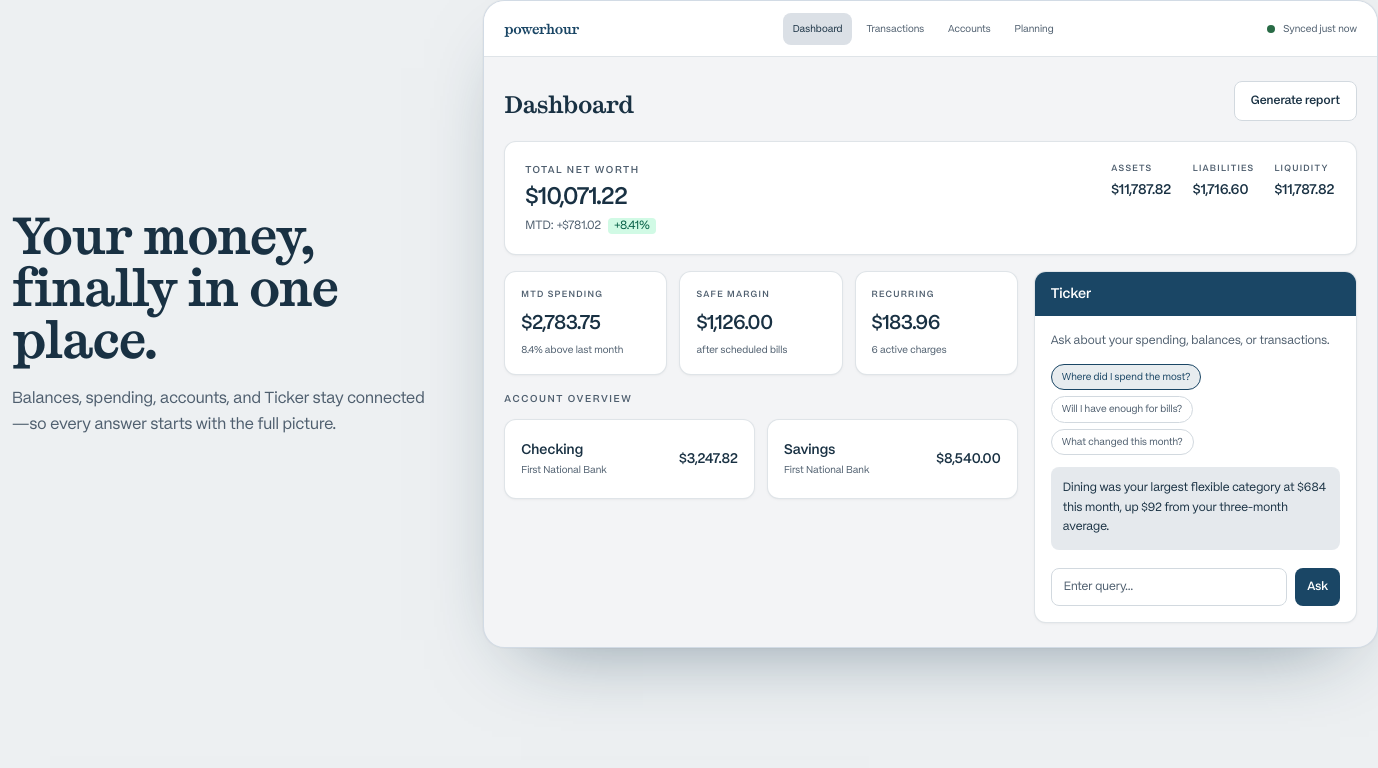
Test: ProductWorkspace › answers preset and custom Ticker questions
The image size is (1378, 768).
Click the button "Will I have enough for bills?": point(1122, 409) top-left (1051, 396), bottom-right (1193, 422)
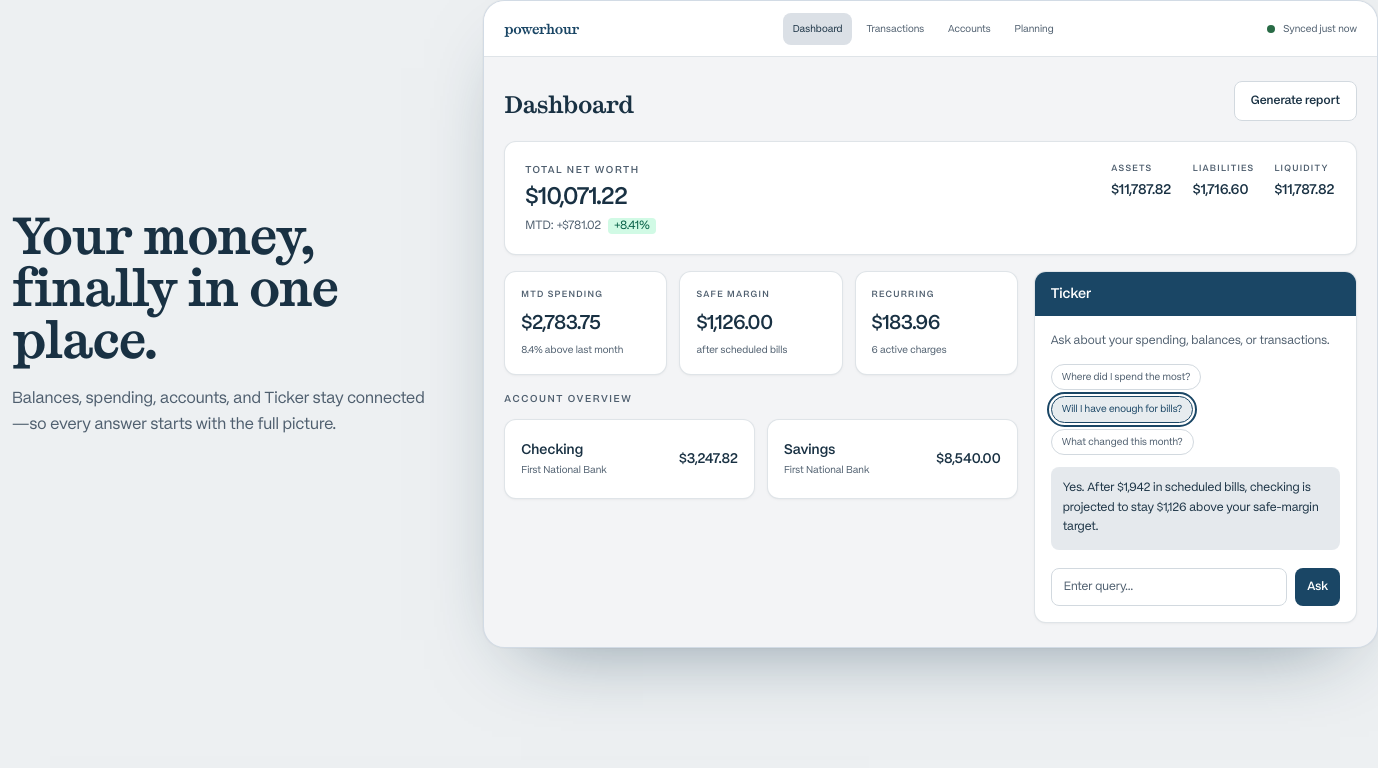
Check: the text "checking is projected to stay $1,126 above" is shown, box top-left (1063, 482), bottom-right (1319, 533)
In the field named "Ask Ticker a question": point(1169, 587) top-left (1051, 568), bottom-right (1287, 606), type "  Can I save more?  "
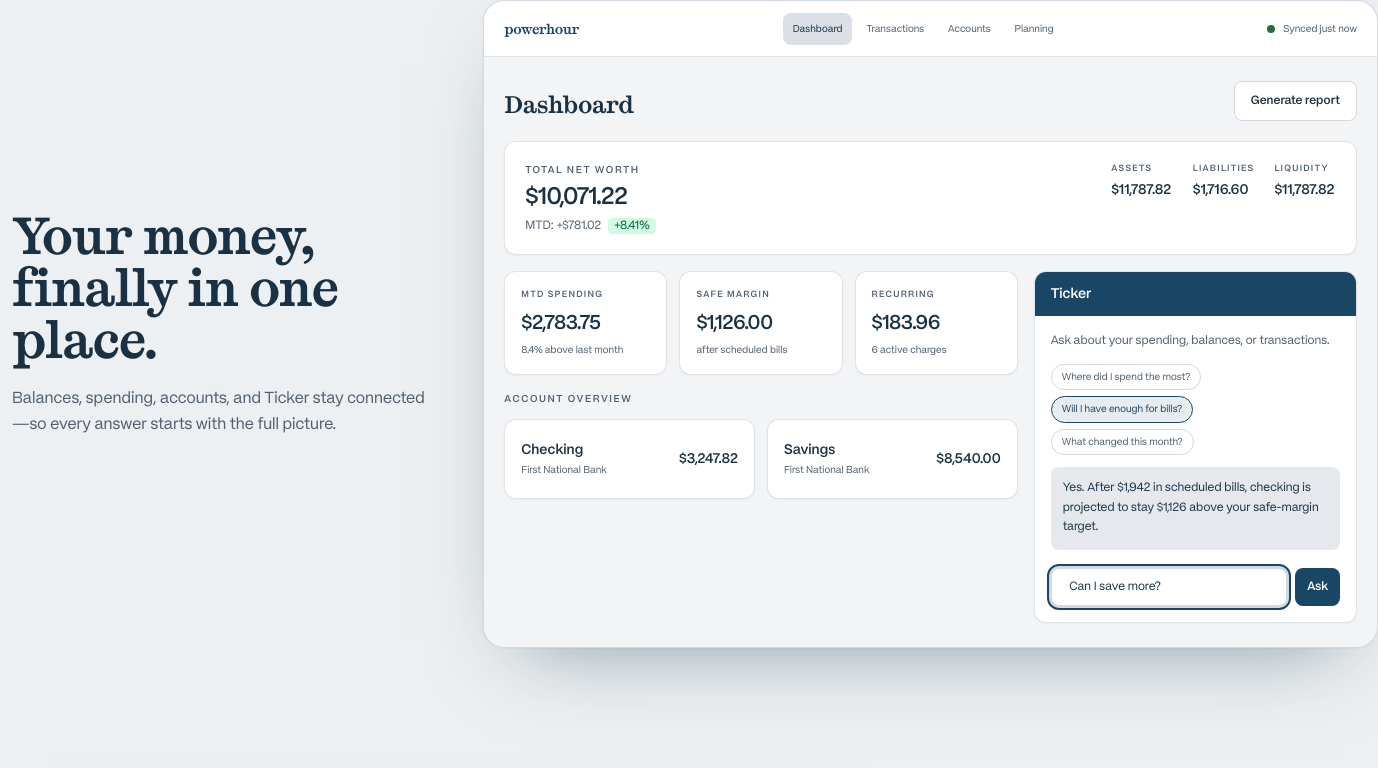
Click the button "Ask": point(1318, 587) top-left (1295, 568), bottom-right (1340, 606)
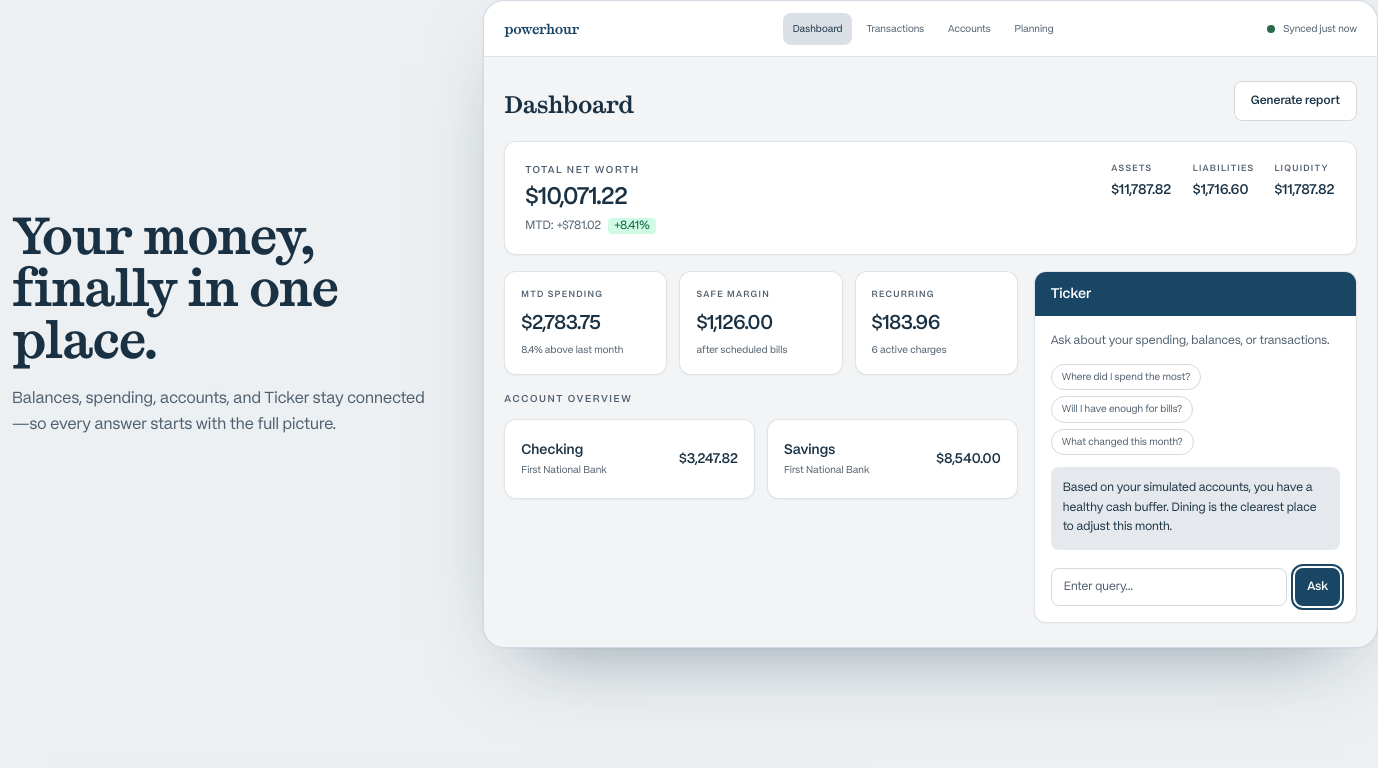
Check: the text "healthy cash buffer" is shown, box top-left (1063, 482), bottom-right (1316, 533)
Check: the field named "Ask Ticker a question" is empty, box top-left (1051, 568), bottom-right (1287, 606)
